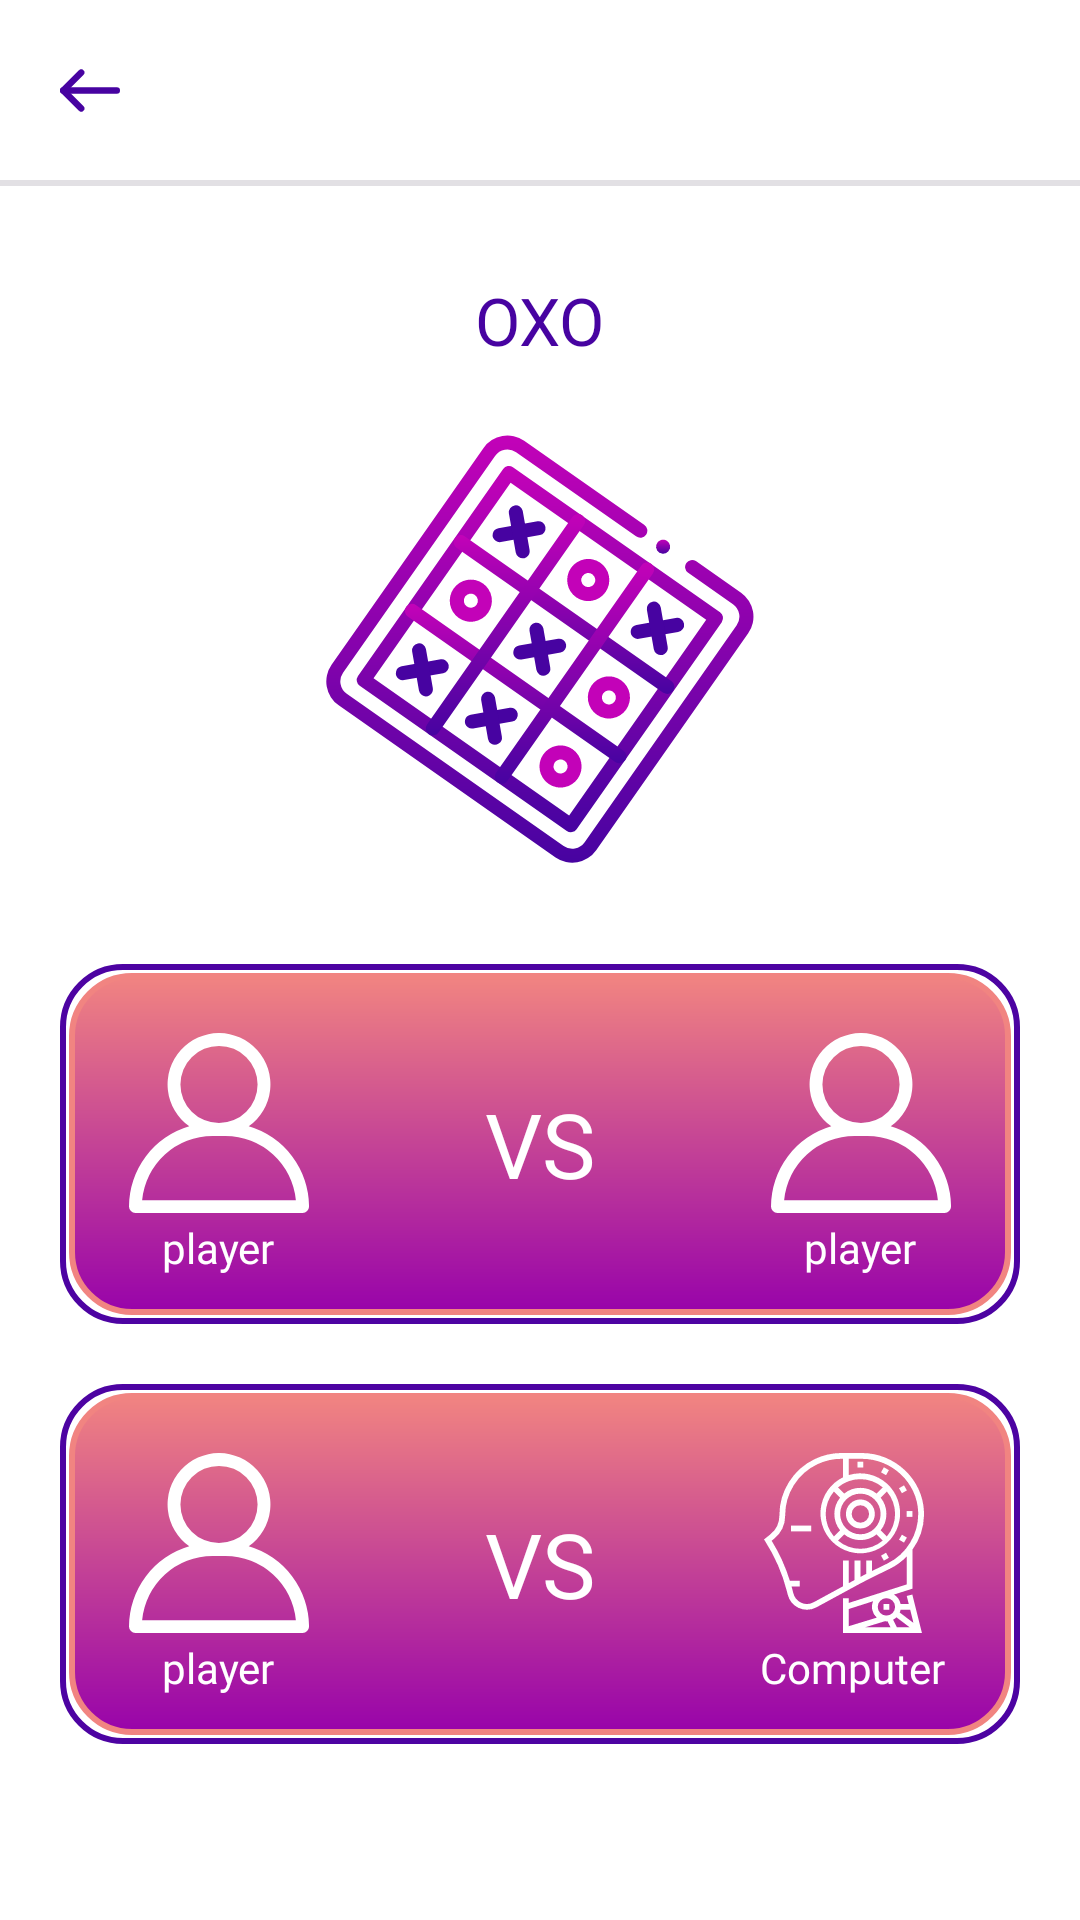

Where to tap for icons on this 1080*1920 app screen, as (x=x, y=y):
back arrow: (x=90, y=90)
person: (x=219, y=1123), (x=861, y=1123), (x=219, y=1543)
